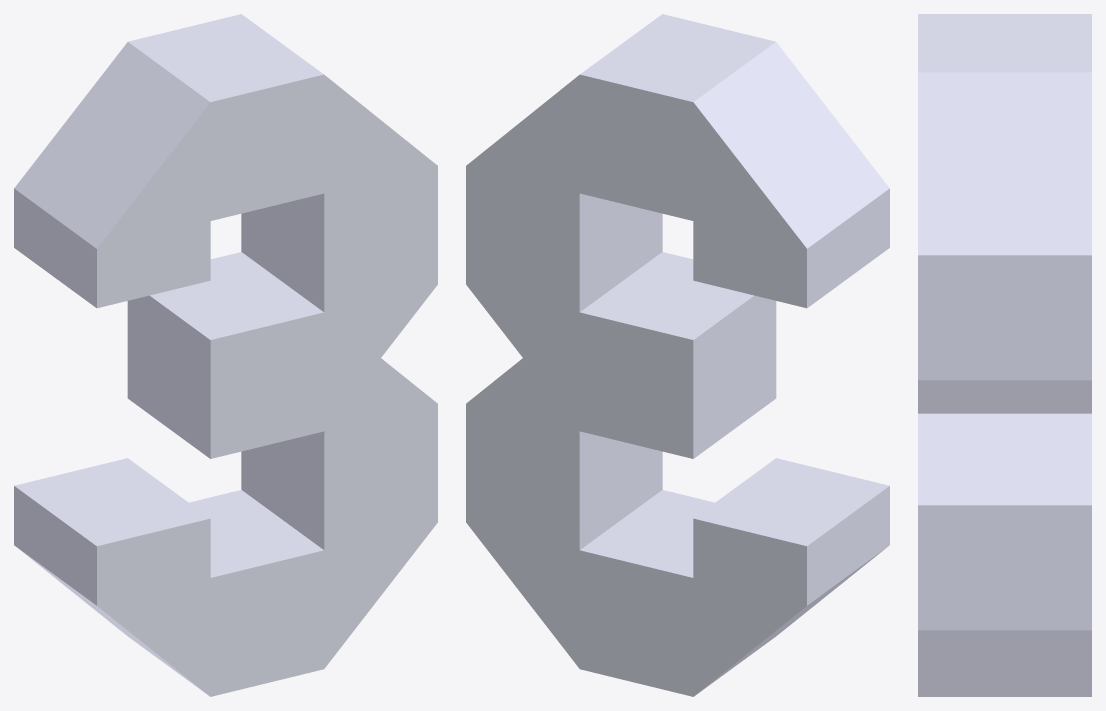
The model's file is 1391af31-f50d-445c-b452-b579381acbbd.glb.
3 views of the same model, side by side, from view 1: azimuth 30°, elevation 25°; view 2: azimuth 150°, elevation 25°; view 3: azimuth 270°, elevation 25° (orthographic). The views are drawn at different scales.
Visible parts, largest first — view 1: 3_DeltaBlock_Grey; view 2: 3_DeltaBlock_Grey; view 3: 3_DeltaBlock_Grey.
Boxes of the visible parts, bbox=[...] form: 3_DeltaBlock_Grey: bbox=[14, 14, 437, 696]; 3_DeltaBlock_Grey: bbox=[466, 14, 889, 696]; 3_DeltaBlock_Grey: bbox=[918, 14, 1091, 696].
Size of what is drawn, in the model's own units: 0.1071 by 0.1786 by 0.045.
Materials: 2 (2 with a texture image).
